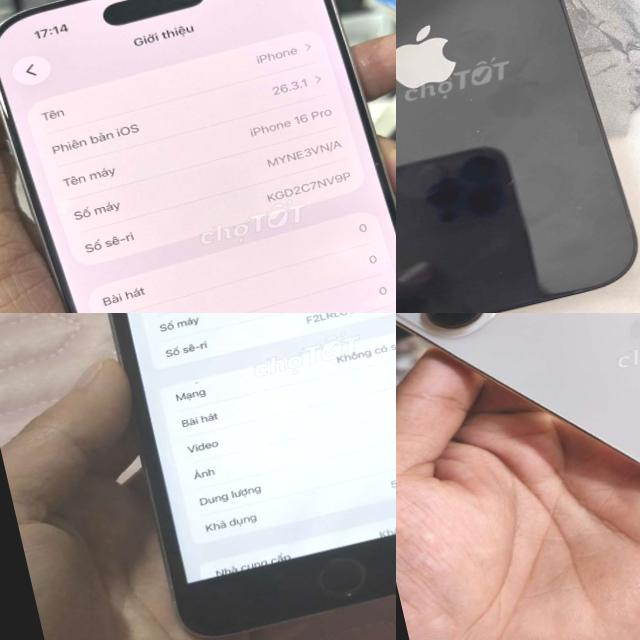gen_12_13: (396, 313, 640, 629), (396, 0, 636, 313)
gen_16: (0, 0, 396, 313)
gen_6: (108, 313, 396, 635)
